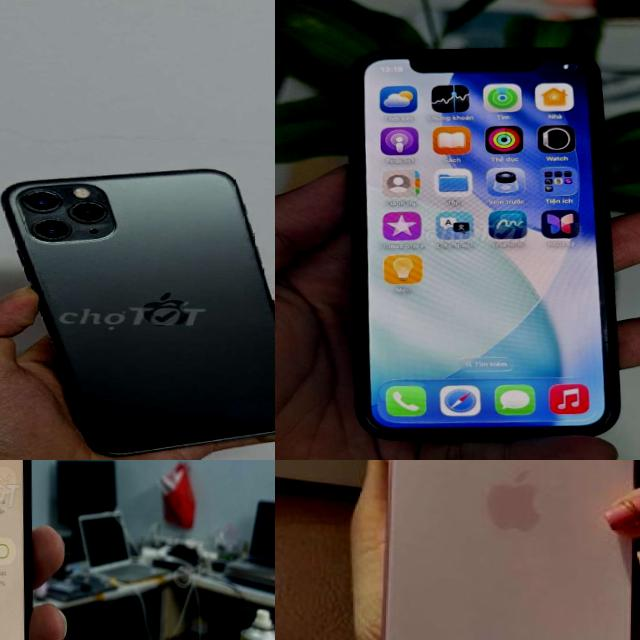gen_11: (330, 37, 630, 448), (2, 169, 275, 455)
gen_15: (368, 460, 640, 640)
